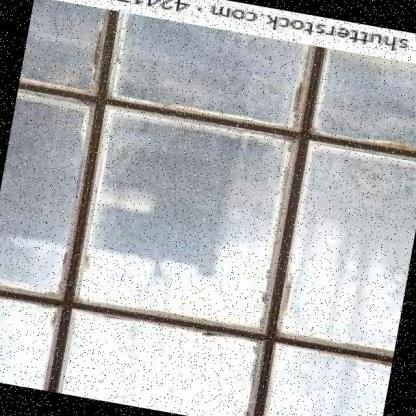Window: (59, 95, 310, 344)
